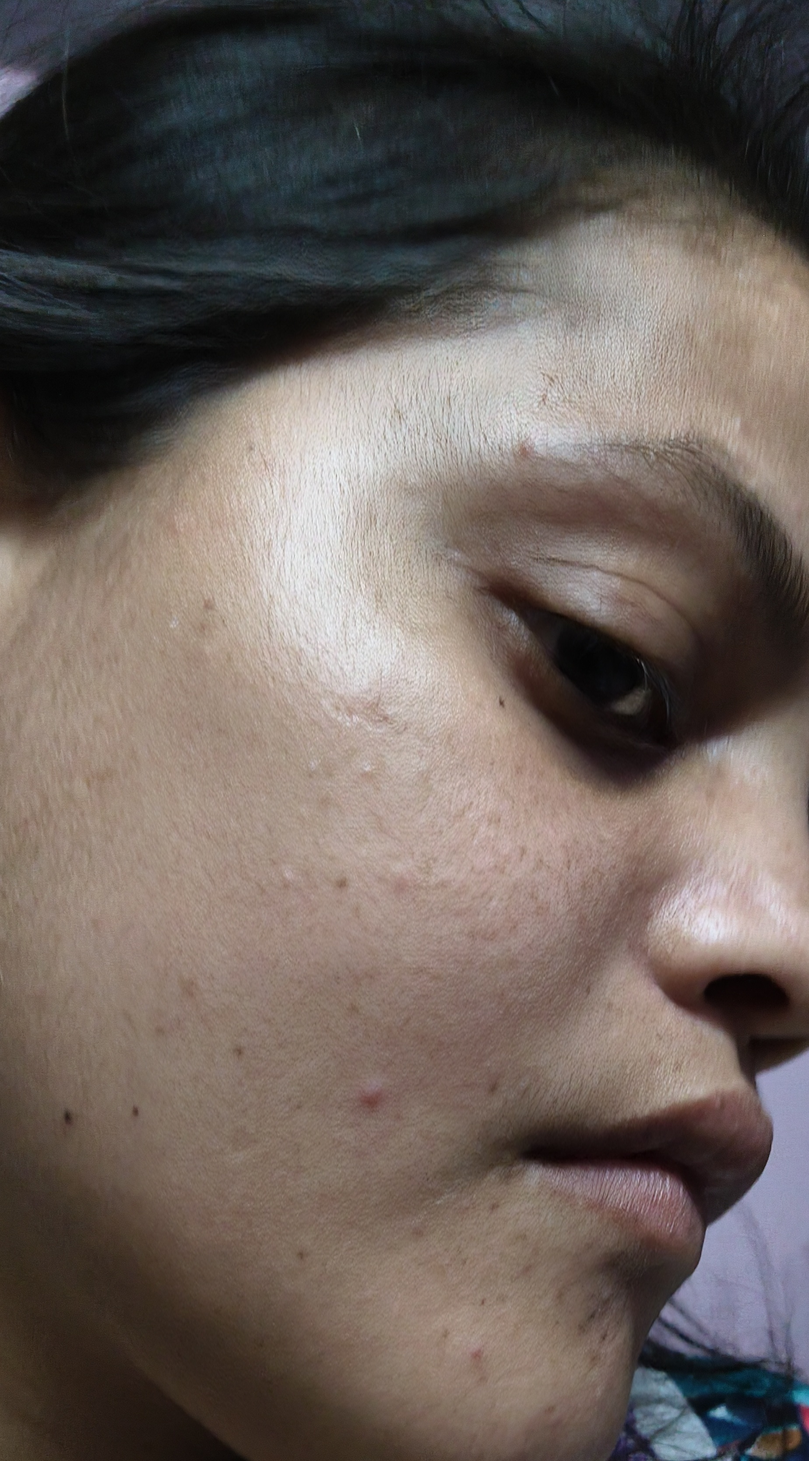closed_comedone: (256, 844, 360, 897), (331, 755, 413, 808)
papule: (353, 1063, 384, 1131)
